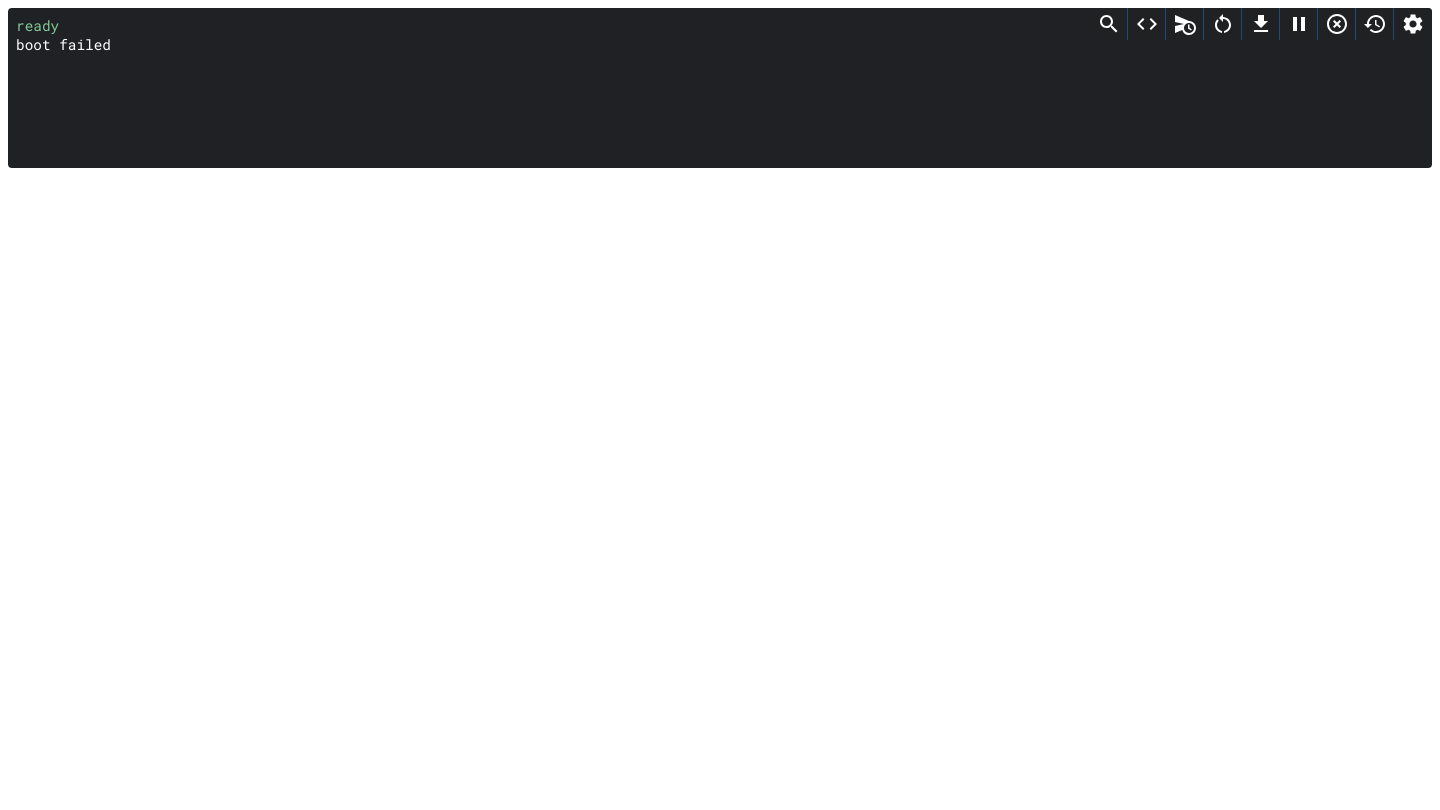
it: TerminalOutput › 发送历史用独立的历史列表，而不是从当前视图里筛
The width and height of the screenshot is (1440, 810).
Click the button named "发送历史". click: (1375, 24)
box: [1356,8,1394,40]
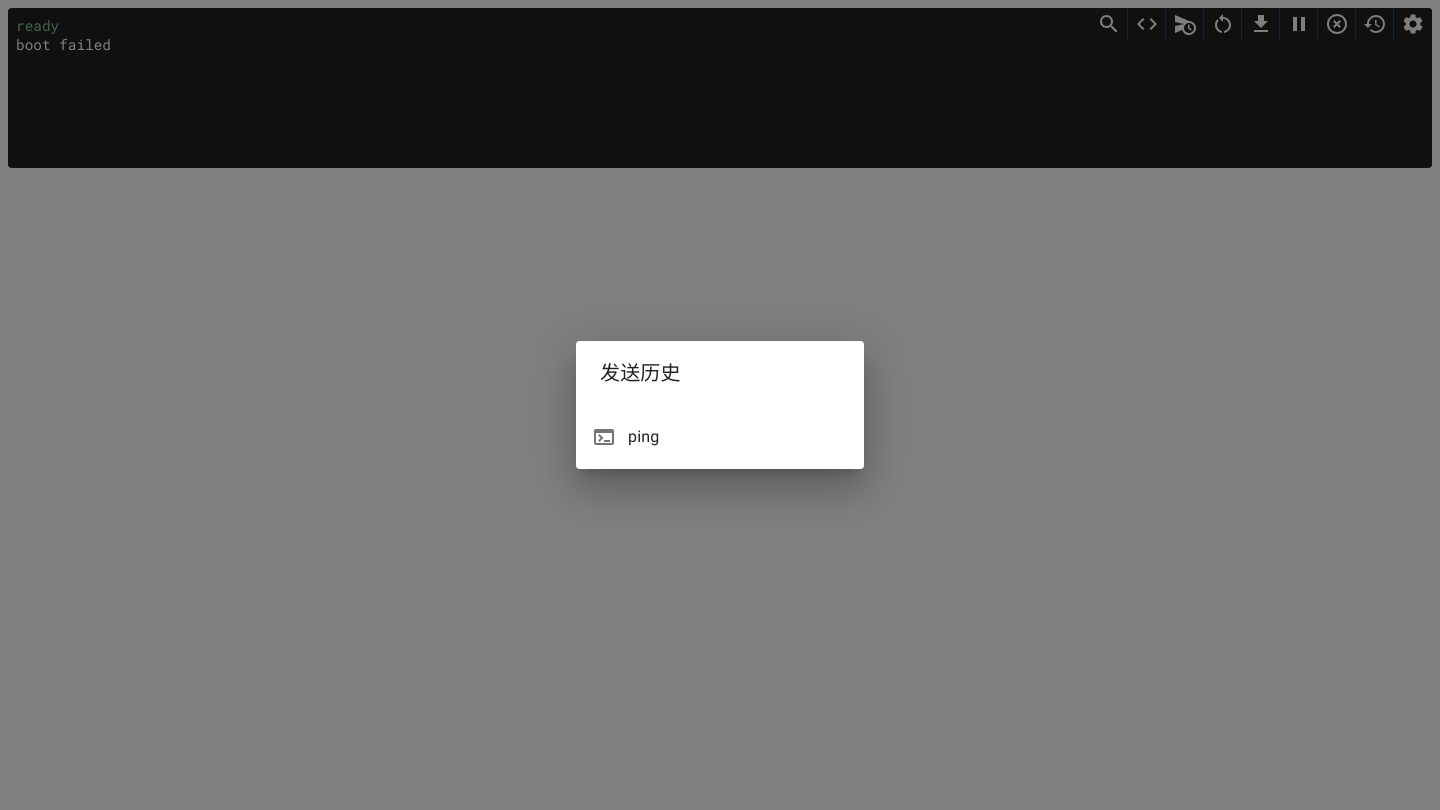
Expected: the text "ping" is shown, [628,427,659,446]
